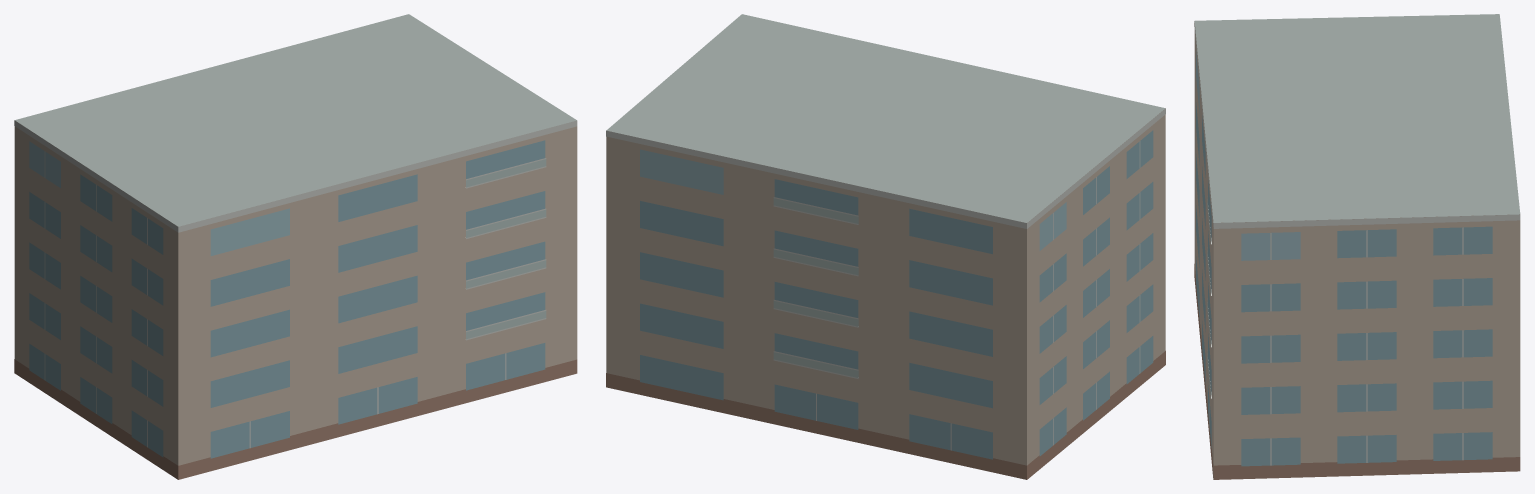
The model's file is survey-upis-32954745.glb.
3 views of the same model, side by side, from view 1: azimuth 30°, elevation 25°; view 2: azimuth 150°, elevation 25°; view 3: azimuth 270°, elevation 25° (orthographic).
Parts seen in each view (by area): view 1: survey-upis-32954745.tmp; view 2: survey-upis-32954745.tmp; view 3: survey-upis-32954745.tmp.
Part boxes in pixels (left/top/right/bottom): survey-upis-32954745.tmp: left=14, top=14, right=577, bottom=479; survey-upis-32954745.tmp: left=606, top=14, right=1165, bottom=479; survey-upis-32954745.tmp: left=1194, top=14, right=1520, bottom=479.
Size of the model in its own units: 18.33 by 10.5 by 12.08.
